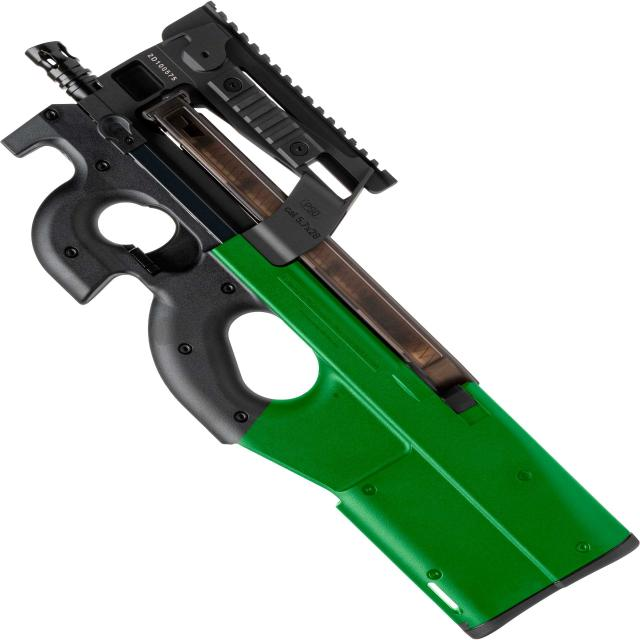Gun: (0, 5, 638, 635)
